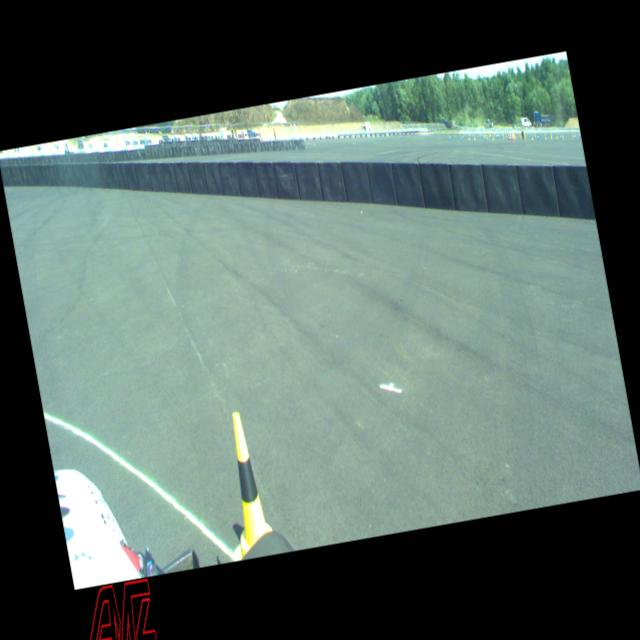yellow_cone: (213, 409, 276, 559)
